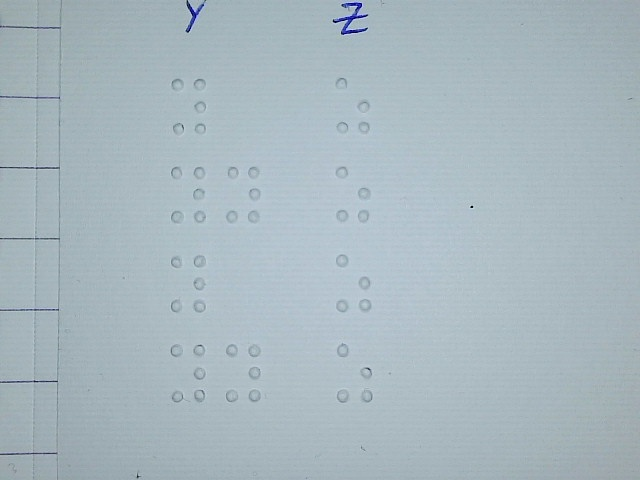Y: (170, 75, 208, 136), (224, 163, 262, 224), (170, 163, 208, 224), (169, 252, 207, 313), (224, 342, 262, 403)
Z: (334, 74, 372, 135), (334, 163, 372, 223), (334, 253, 372, 313), (335, 342, 373, 402)
